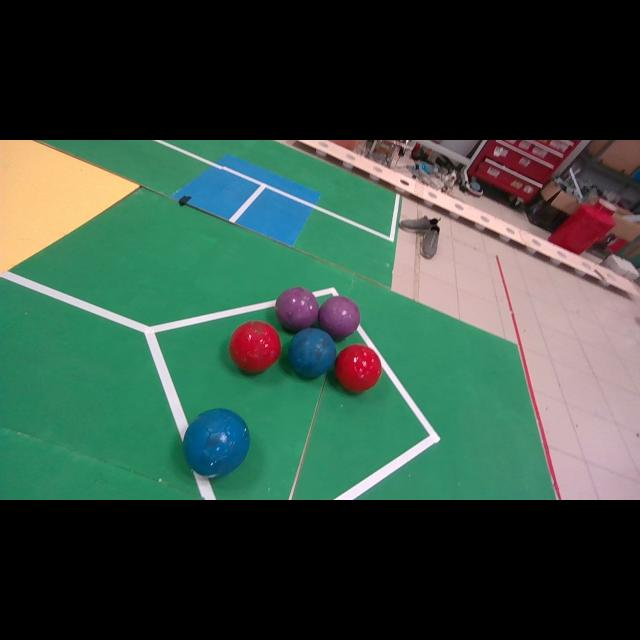B: (182, 409, 250, 478), (289, 328, 336, 378)
P: (275, 288, 319, 332), (318, 296, 360, 340)
R: (229, 320, 281, 372), (335, 344, 382, 392)
